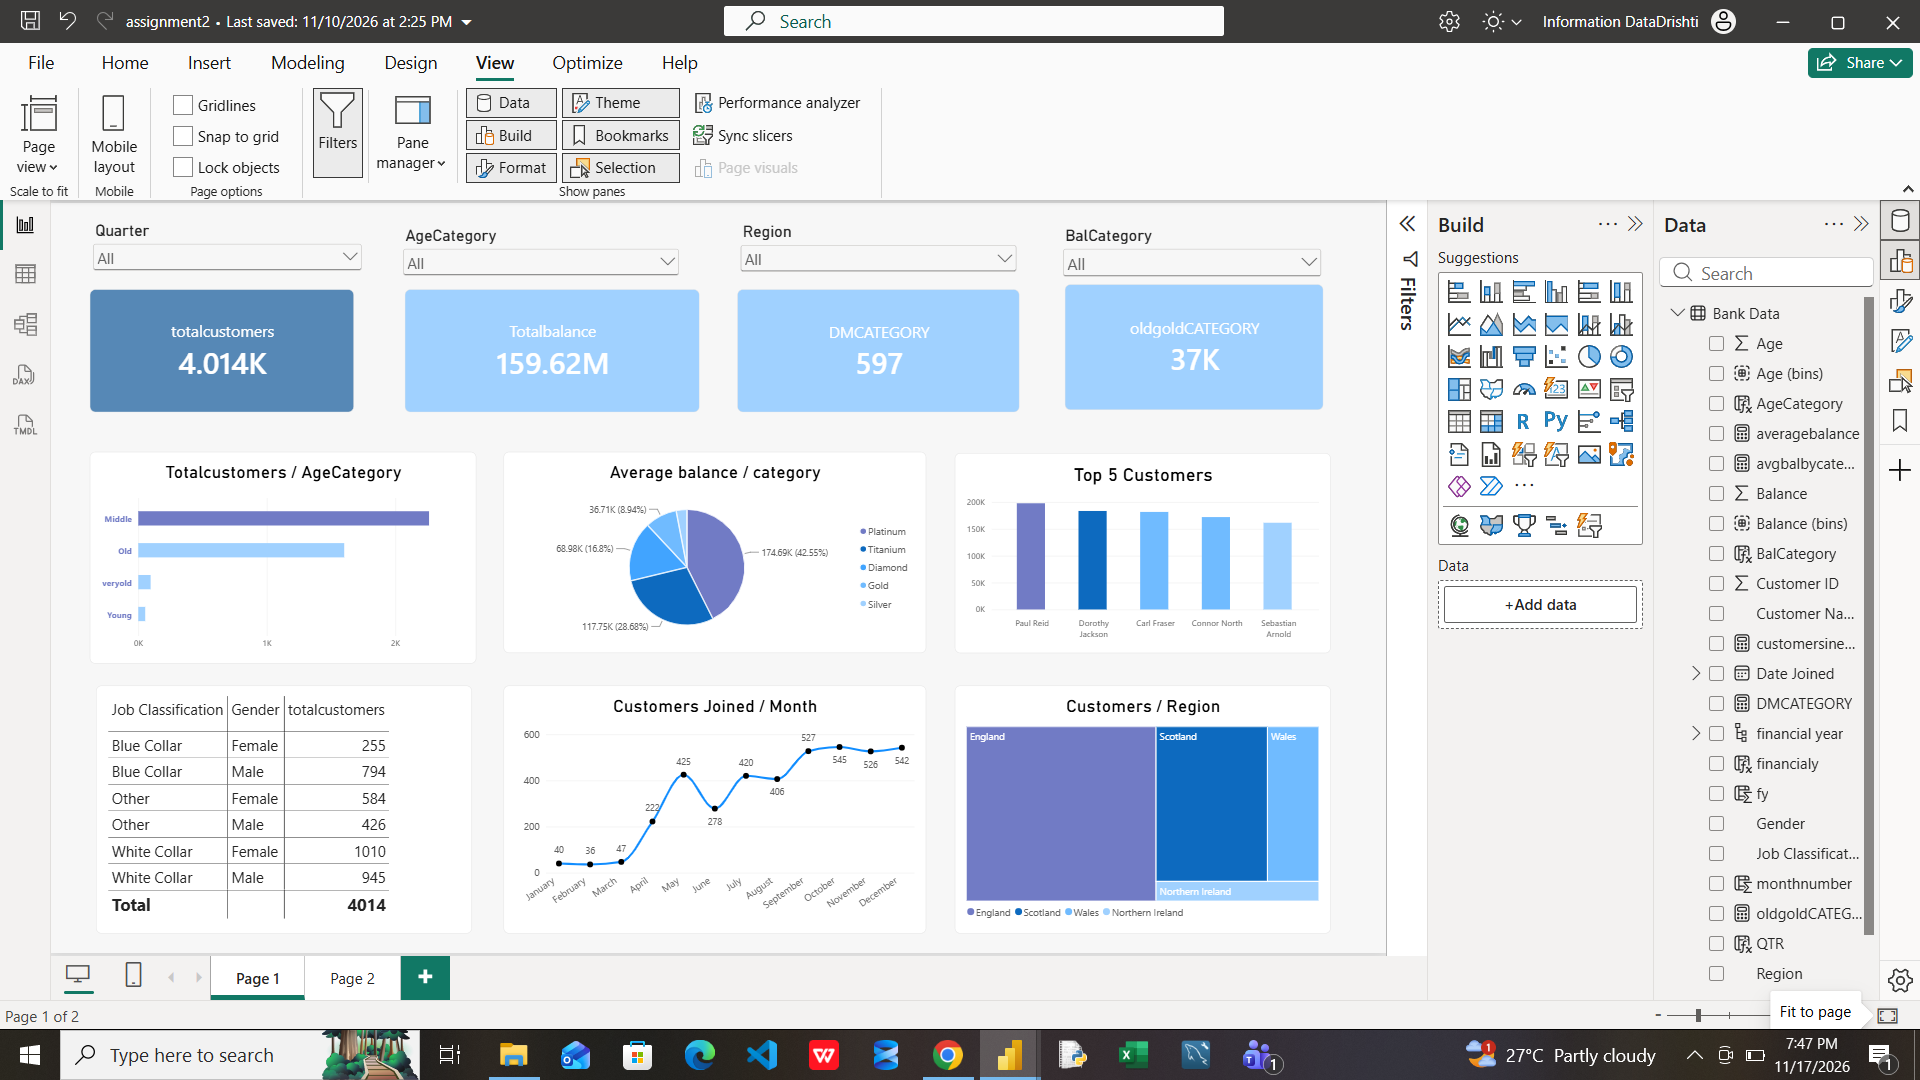

Layout of this report page (visuals, bound fields, positions):
{"tool":"powerbi","page":{"name":"Page 1","canvas":[1920,1080],"ordinal":0},"visuals":[{"type":"pieChart","title":"Average balance / category","fields":{"Category":["Bank Data.BalCategory"],"Y":["Bank Data.averagebalance"]},"box":[651.4,357.1,608.1,290],"z":0},{"type":"cardVisual","fields":{"Data":["Bank Data.Totalbalance"]},"box":[508.6,123.4,424.2,177.5],"z":1000},{"type":"slicer","fields":{"Values":["Bank Data.BalCategory"]},"box":[1450,32.5,380.9,84.4],"z":2000},{"type":"slicer","fields":{"Values":["Bank Data.AgeCategory"]},"box":[502.1,32.5,406.9,90.9],"z":3000},{"type":"barChart","title":"Totalcustomers / AgeCategory","fields":{"Category":["Bank Data.AgeCategory"],"Y":["Bank Data.totalcustomers"]},"box":[56.3,357.1,556.2,305.1],"z":4000},{"type":"tableEx","fields":{"Values":["Bank Data.Job Classification","Bank Data.Gender","Bank Data.totalcustomers"]},"box":[64.9,694.7,541,357.1],"z":5000},{"type":"slicer","fields":{"Values":["Bank Data.Date Joined.Variation.Date Hierarchy.Quarter"]},"box":[56.3,26,396,77.9],"z":6000},{"type":"slicer","fields":{"Values":["Bank Data.Region"]},"box":[987,27,406.3,91.7],"z":7000},{"type":"cardVisual","fields":{"Data":["Bank Data.oldgoldCATEGORY"]},"box":[1458.6,116.9,372.2,181.8],"z":8000},{"type":"lineChart","title":" Customers Joined / Month","fields":{"Category":["Bank Data.Date Joined.Variation.Date Hierarchy.Month"],"Y":["CountNonNull(Bank Data.Customer ID)"]},"box":[651.4,694.7,608.1,357.1],"z":9000},{"type":"treemap","title":"Customers / Region","fields":{"Group":["Bank Data.Region"],"Values":["CountNonNull(Bank Data.Customer ID)"]},"box":[1300.6,694.7,541,357.1],"z":10000},{"type":"cardVisual","fields":{"Data":["Bank Data.totalcustomers"]},"box":[56.3,123.4,380.9,177.5],"z":11000},{"type":"cardVisual","fields":{"Data":["Bank Data.DMCATEGORY"]},"box":[986.8,123.4,406.9,177.5],"z":12000},{"type":"columnChart","title":"Top 5 Customers","fields":{"Category":["Bank Data.Customer Name"],"Y":["Sum(Bank Data.Balance)"]},"box":[1300.6,359.2,541,287.8],"z":12001}]}

Visuals, with their boxes on the page's 1920x1080 design canvas (x1, y1, x2, y2). These are canvas units, not pixel positions in the 1920x1080 screenshot, which may show the page scaled, cropped or inside an application window:
"Average balance / category" pieChart: [left=651, top=357, right=1260, bottom=647]
cardVisual - Bank Data.Totalbalance: [left=509, top=123, right=933, bottom=301]
slicer - Bank Data.BalCategory: [left=1450, top=32, right=1831, bottom=117]
slicer - Bank Data.AgeCategory: [left=502, top=32, right=909, bottom=123]
"Totalcustomers / AgeCategory" barChart: [left=56, top=357, right=612, bottom=662]
tableEx - Bank Data.Job Classification x Bank Data.Gender: [left=65, top=695, right=606, bottom=1052]
slicer - Bank Data.Date Joined.Variation.Date Hierarchy.Quarter: [left=56, top=26, right=452, bottom=104]
slicer - Bank Data.Region: [left=987, top=27, right=1393, bottom=119]
cardVisual - Bank Data.oldgoldCATEGORY: [left=1459, top=117, right=1831, bottom=299]
" Customers Joined / Month" lineChart: [left=651, top=695, right=1260, bottom=1052]
"Customers / Region" treemap: [left=1301, top=695, right=1842, bottom=1052]
cardVisual - Bank Data.totalcustomers: [left=56, top=123, right=437, bottom=301]
cardVisual - Bank Data.DMCATEGORY: [left=987, top=123, right=1394, bottom=301]
"Top 5 Customers" columnChart: [left=1301, top=359, right=1842, bottom=647]
